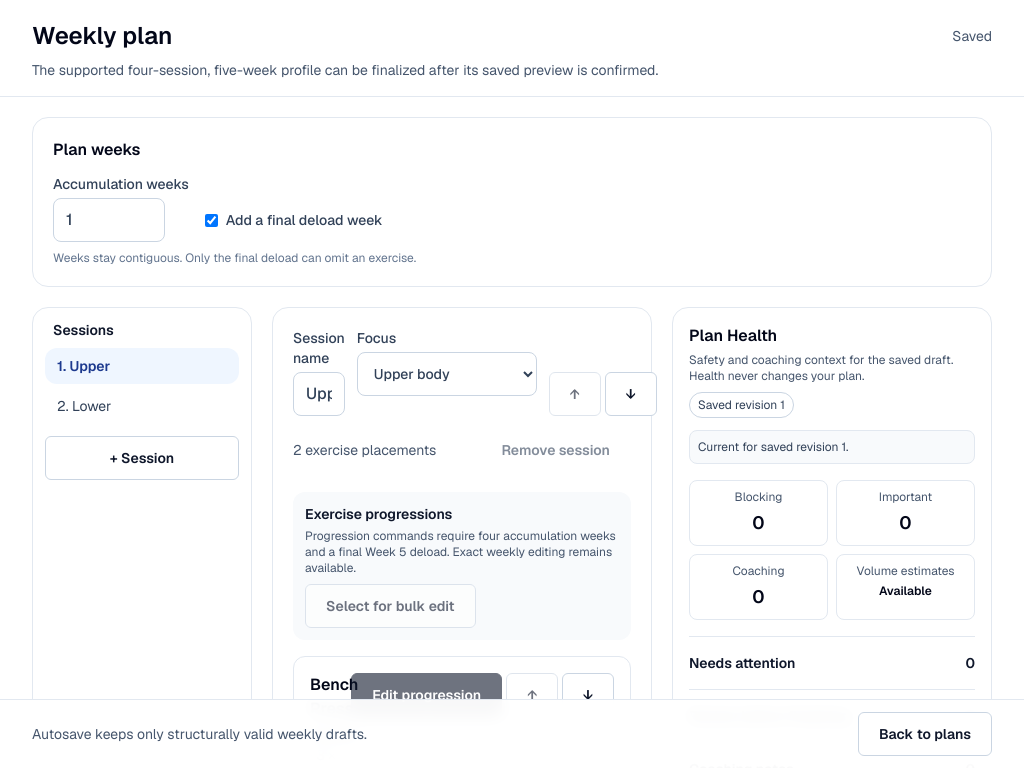
it: WeeklyHypertrophyPlanEditor › degrades explicitly when a save response carries mismatched Health
Replace the text in the field showing "Weekly plan" with "Mismatched Health" at point(320, 36), box [32, 20, 608, 52]
Wait 800 ms
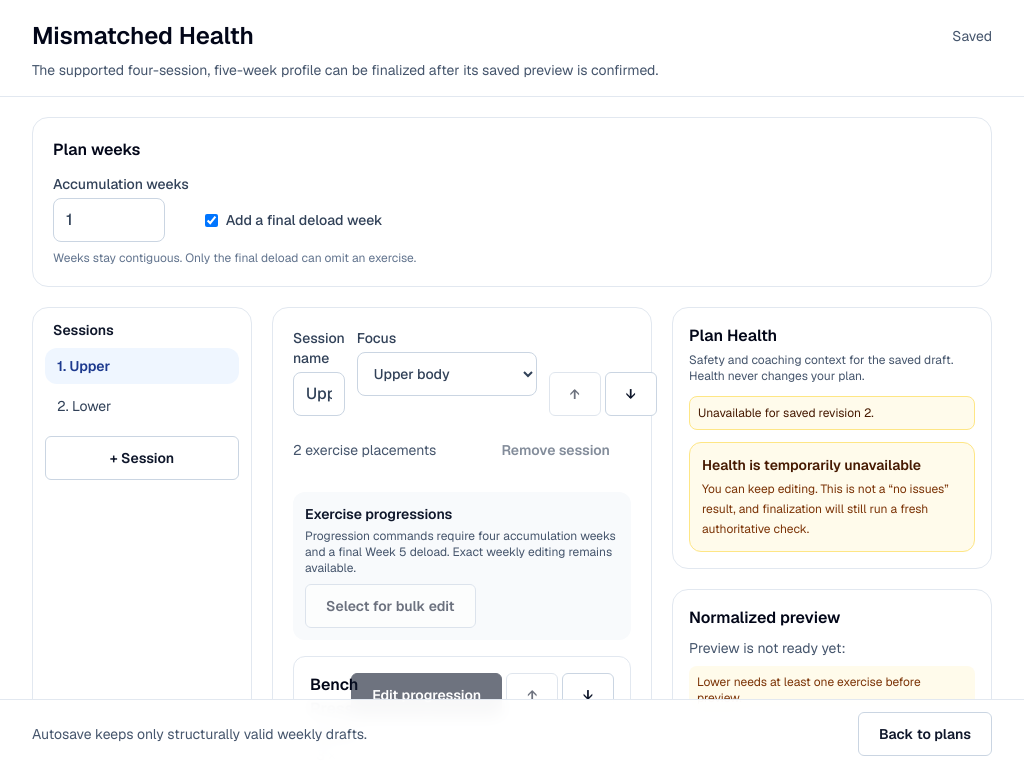
Now the heading "Health is temporarily unavailable" is shown, box [702, 456, 921, 474]
Now the text "Unavailable for saved revision 2." is shown, box [689, 396, 975, 430]
